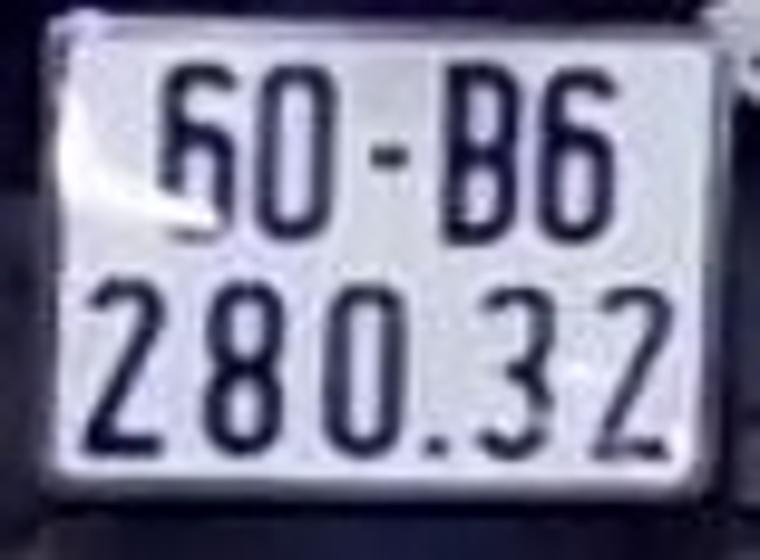-: (359, 139, 418, 174)
.: (415, 428, 463, 465)
0: (321, 276, 416, 464), (255, 65, 343, 252)
2: (74, 269, 177, 467), (585, 270, 684, 471)
3: (477, 274, 558, 466)
6: (152, 55, 252, 255), (536, 59, 629, 248)
8: (198, 276, 295, 467)
B: (432, 61, 525, 256)
